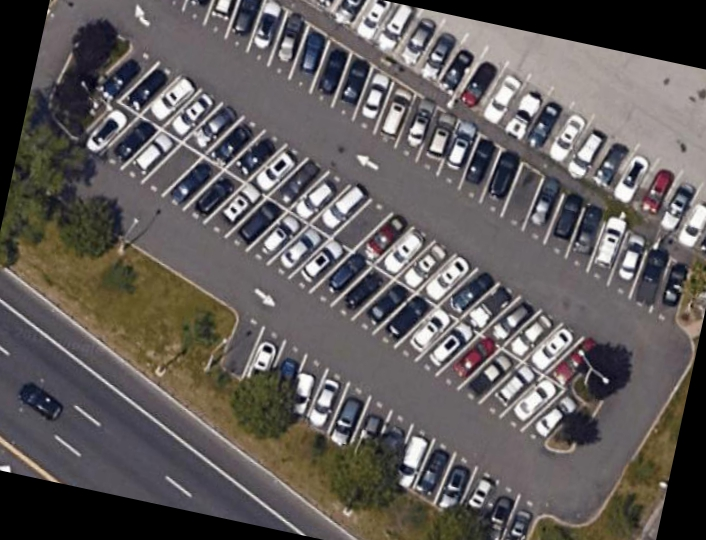parkingspot: (70, 42, 623, 451), (159, 0, 695, 334), (303, 0, 706, 261), (217, 306, 544, 540)
